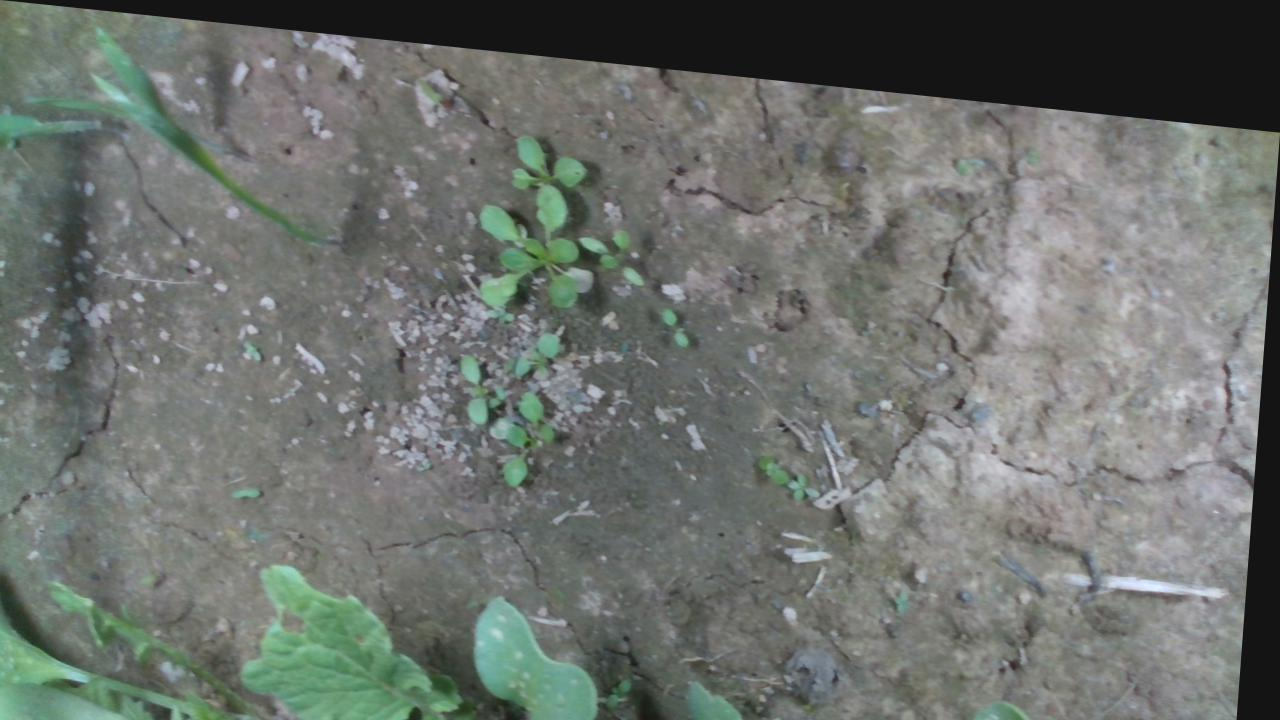weed: (662, 289, 694, 334), (235, 477, 268, 494)
